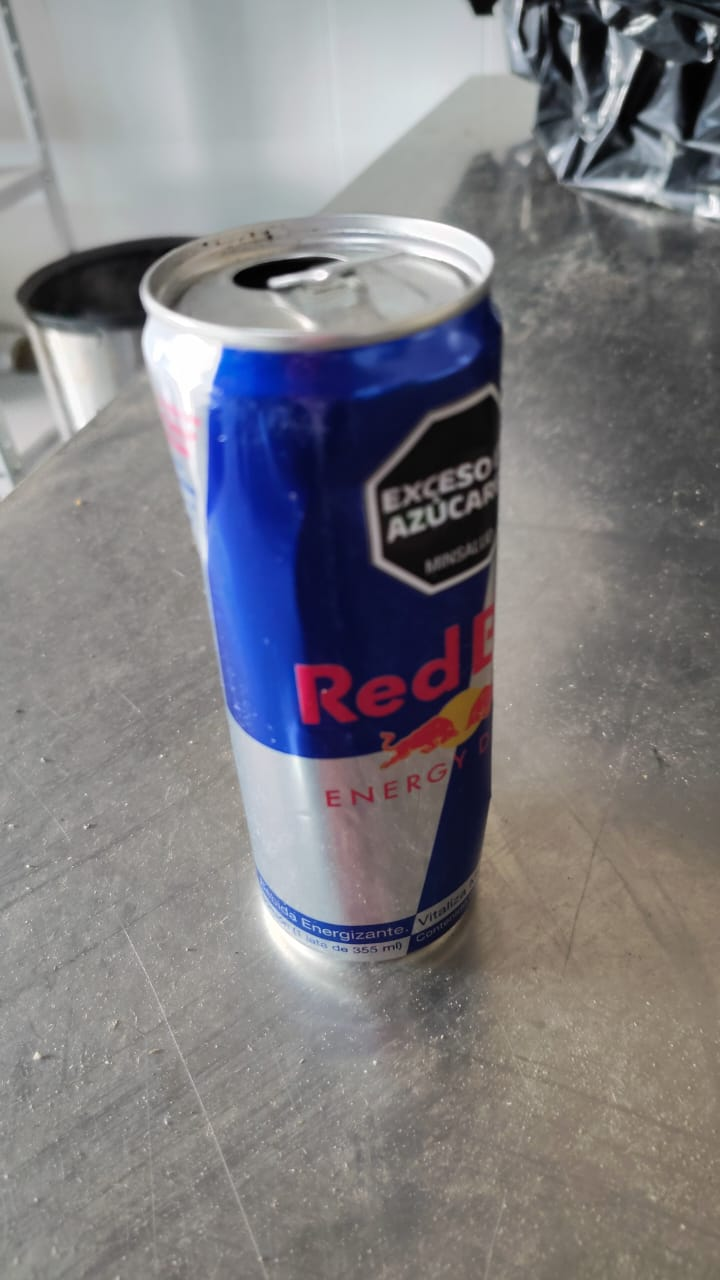Metal: (141, 209, 505, 959)
